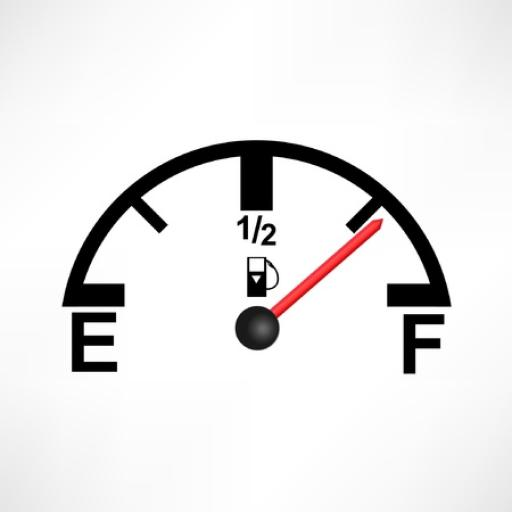empty: (62, 308, 127, 384)
fuel_icon: (235, 256, 283, 298)
full: (397, 308, 450, 376)
guage_area: (52, 127, 457, 401)
needle_center: (230, 303, 287, 359)
needle_tip: (362, 214, 389, 238)
